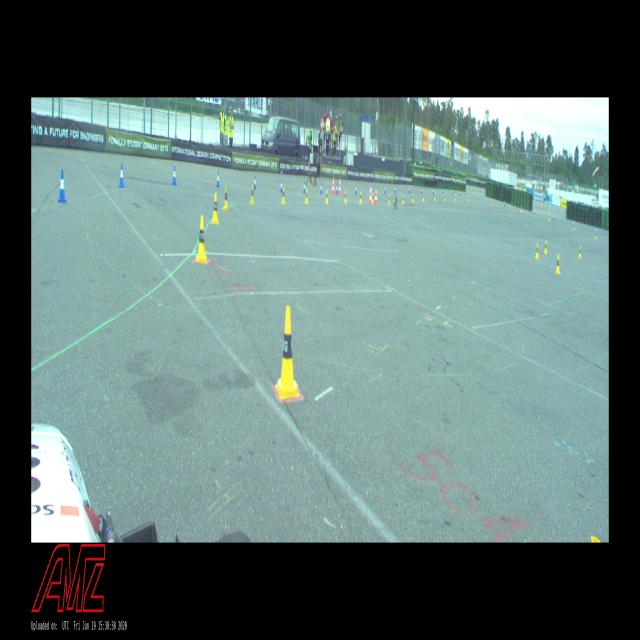blue_cone: (58, 170, 67, 202), (119, 163, 124, 188), (172, 166, 176, 184), (217, 171, 220, 187), (254, 176, 256, 189), (280, 180, 282, 192), (304, 182, 306, 194), (320, 183, 322, 194), (355, 184, 357, 194), (336, 184, 338, 194), (394, 185, 396, 193), (371, 184, 372, 194), (385, 185, 386, 192), (409, 186, 410, 193), (504, 200, 505, 206), (422, 188, 423, 194), (596, 226, 597, 232), (573, 220, 574, 226), (442, 188, 443, 194), (433, 189, 434, 194), (460, 190, 461, 195), (452, 189, 453, 194), (553, 214, 554, 219), (478, 194, 478, 200), (534, 209, 534, 214)
large_orange_cone: (374, 186, 378, 204), (369, 185, 372, 204), (338, 177, 341, 194), (332, 177, 334, 194)
yellow_cone: (276, 306, 300, 398), (196, 216, 207, 262), (212, 193, 219, 223), (223, 187, 228, 210), (556, 254, 560, 274), (251, 184, 254, 204), (535, 244, 539, 258), (282, 187, 285, 203), (305, 188, 308, 203), (544, 241, 547, 253), (359, 192, 362, 203), (326, 190, 328, 203), (579, 245, 581, 258), (344, 190, 346, 202), (388, 195, 390, 204), (402, 195, 404, 203), (434, 193, 436, 200), (595, 232, 597, 238), (372, 192, 373, 203), (454, 195, 456, 200), (412, 193, 413, 202), (423, 193, 424, 201), (573, 222, 574, 230), (444, 194, 445, 200), (521, 206, 522, 212), (468, 196, 469, 201), (549, 215, 550, 220), (533, 201, 534, 206), (491, 200, 492, 204)
